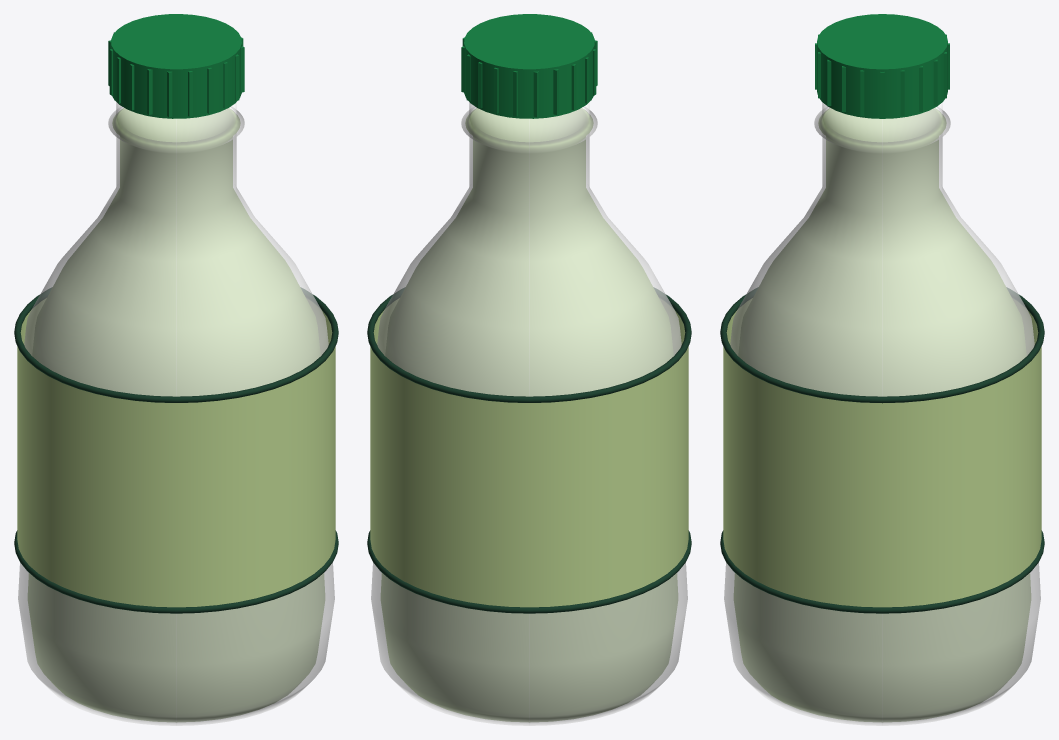
File: aloe-pineapple.glb
The picture shows the model from 3 angles, left to right: view 1: azimuth 30°, elevation 25°; view 2: azimuth 150°, elevation 25°; view 3: azimuth 270°, elevation 25°; orthographic projection.
Visible parts, largest first — view 1: object 1, object 2, ProductLabel, object 6, object 4, object 5; view 2: object 1, object 2, ProductLabel, object 6, object 4, object 5; view 3: object 1, object 2, ProductLabel, object 6, object 4, object 5.
Boxes of the visible parts, x1=… form: object 1: x1=18, y1=102, x2=334, y2=725; object 2: x1=28, y1=108, x2=324, y2=722; ProductLabel: x1=17, y1=298, x2=335, y2=607; object 6: x1=111, y1=14, x2=241, y2=118; object 4: x1=14, y1=288, x2=338, y2=402; object 5: x1=14, y1=530, x2=338, y2=613; object 1: x1=371, y1=102, x2=687, y2=725; object 2: x1=381, y1=108, x2=677, y2=722; ProductLabel: x1=370, y1=298, x2=688, y2=607; object 6: x1=464, y1=14, x2=594, y2=118; object 4: x1=367, y1=288, x2=691, y2=402; object 5: x1=367, y1=530, x2=691, y2=613; object 1: x1=724, y1=102, x2=1040, y2=725; object 2: x1=734, y1=108, x2=1030, y2=722; ProductLabel: x1=723, y1=298, x2=1041, y2=607; object 6: x1=817, y1=14, x2=947, y2=118; object 4: x1=720, y1=288, x2=1044, y2=403; object 5: x1=720, y1=530, x2=1044, y2=613.
Size of the model in its own units: 1.19 by 2.55 by 1.19.
